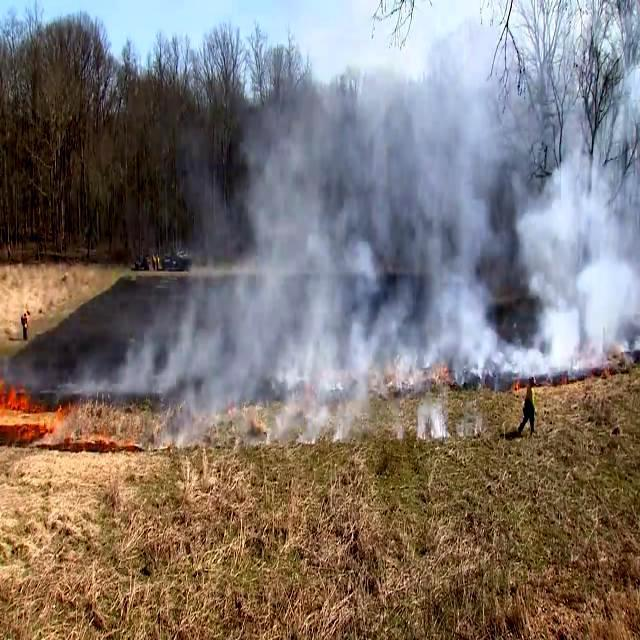Fire: (0, 378, 92, 430)
Smoke: (117, 0, 640, 397)
